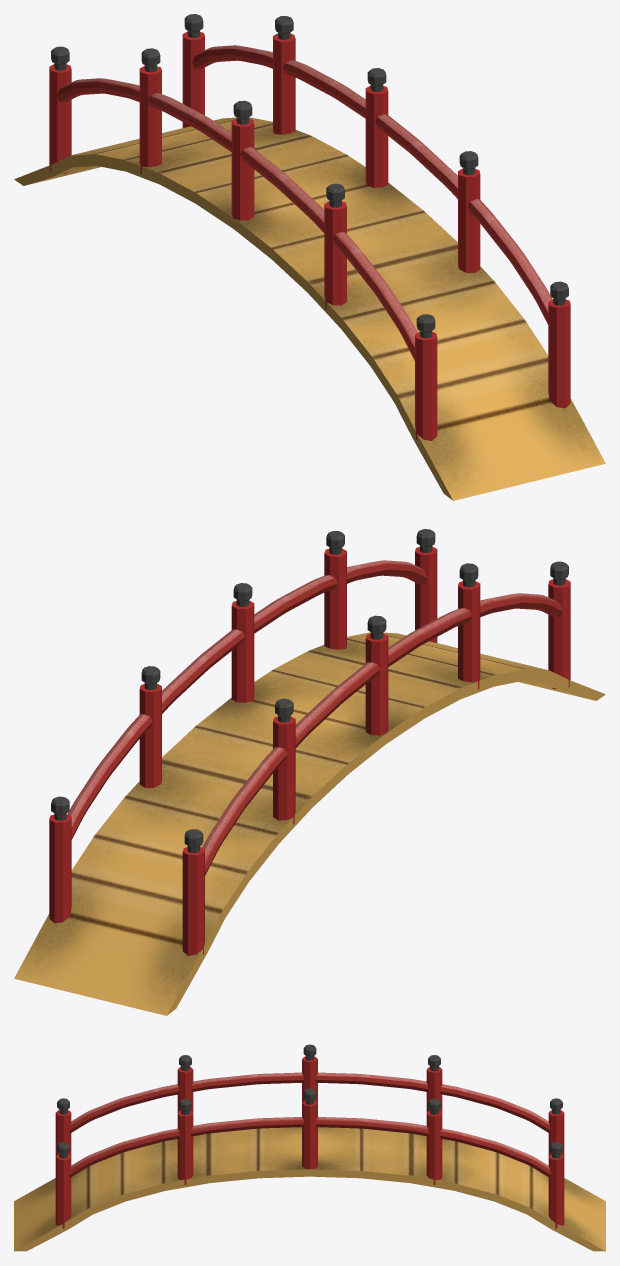
Rendered from Zen_bridge.glb.
3 views of the same model, one above another, from view 1: azimuth 30°, elevation 25°; view 2: azimuth 150°, elevation 25°; view 3: azimuth 270°, elevation 25° (orthographic). The views are drawn at different scales.
Visible parts, largest first — view 1: Zen_bridge; view 2: Zen_bridge; view 3: Zen_bridge.
Part boxes in pixels (bbox=[...]): Zen_bridge: bbox=[14, 14, 605, 500]; Zen_bridge: bbox=[14, 529, 605, 1015]; Zen_bridge: bbox=[14, 1044, 605, 1251].
Size of what is drawn, in the model's own units: 2.35 by 3.42 by 11.62.
Materials: 1 (1 with a texture image).
